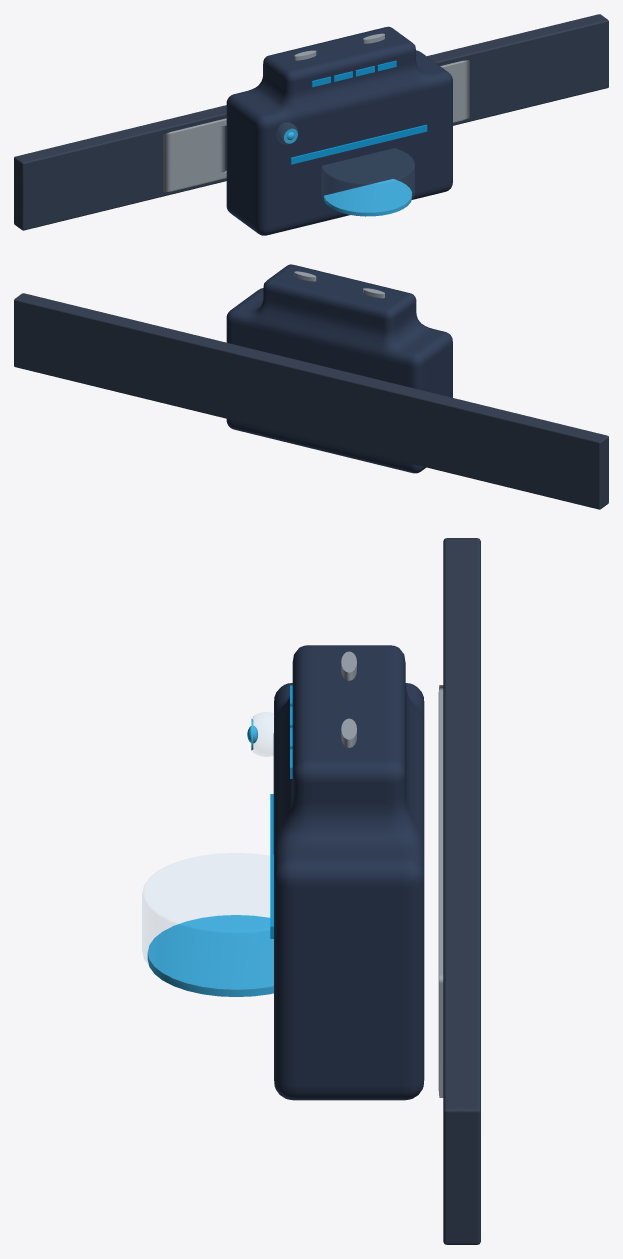
The model's file is p-9099caee0c.glb.
3 renders of one model, top to bottom at view 1: azimuth 30°, elevation 25°; view 2: azimuth 150°, elevation 25°; view 3: azimuth 270°, elevation 25°, orthographic. The views are drawn at different scales.
Visible parts, largest first — view 1: body, belt, main-light, battery, dark-sensor; view 2: belt, body, battery; view 3: body, belt, main-light, battery, dark-sensor.
Boxes of the visible parts, x1,y1,x2,y2 form: body: (226, 26, 452, 235); belt: (14, 14, 608, 230); main-light: (322, 148, 414, 216); battery: (294, 33, 396, 87); dark-sensor: (276, 123, 297, 143); belt: (14, 293, 608, 509); body: (226, 264, 452, 473); battery: (294, 271, 384, 298); body: (270, 645, 424, 1100); belt: (438, 538, 480, 1244); main-light: (142, 853, 273, 996); battery: (290, 651, 356, 778); dark-sensor: (247, 712, 273, 756).
Bounding box in the file's own units: 0.36 × 0.0924 × 0.09.
